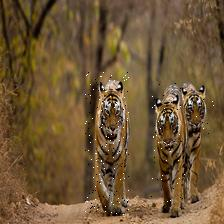tiger: (85, 73, 129, 216), (150, 81, 184, 207), (183, 81, 217, 148)
